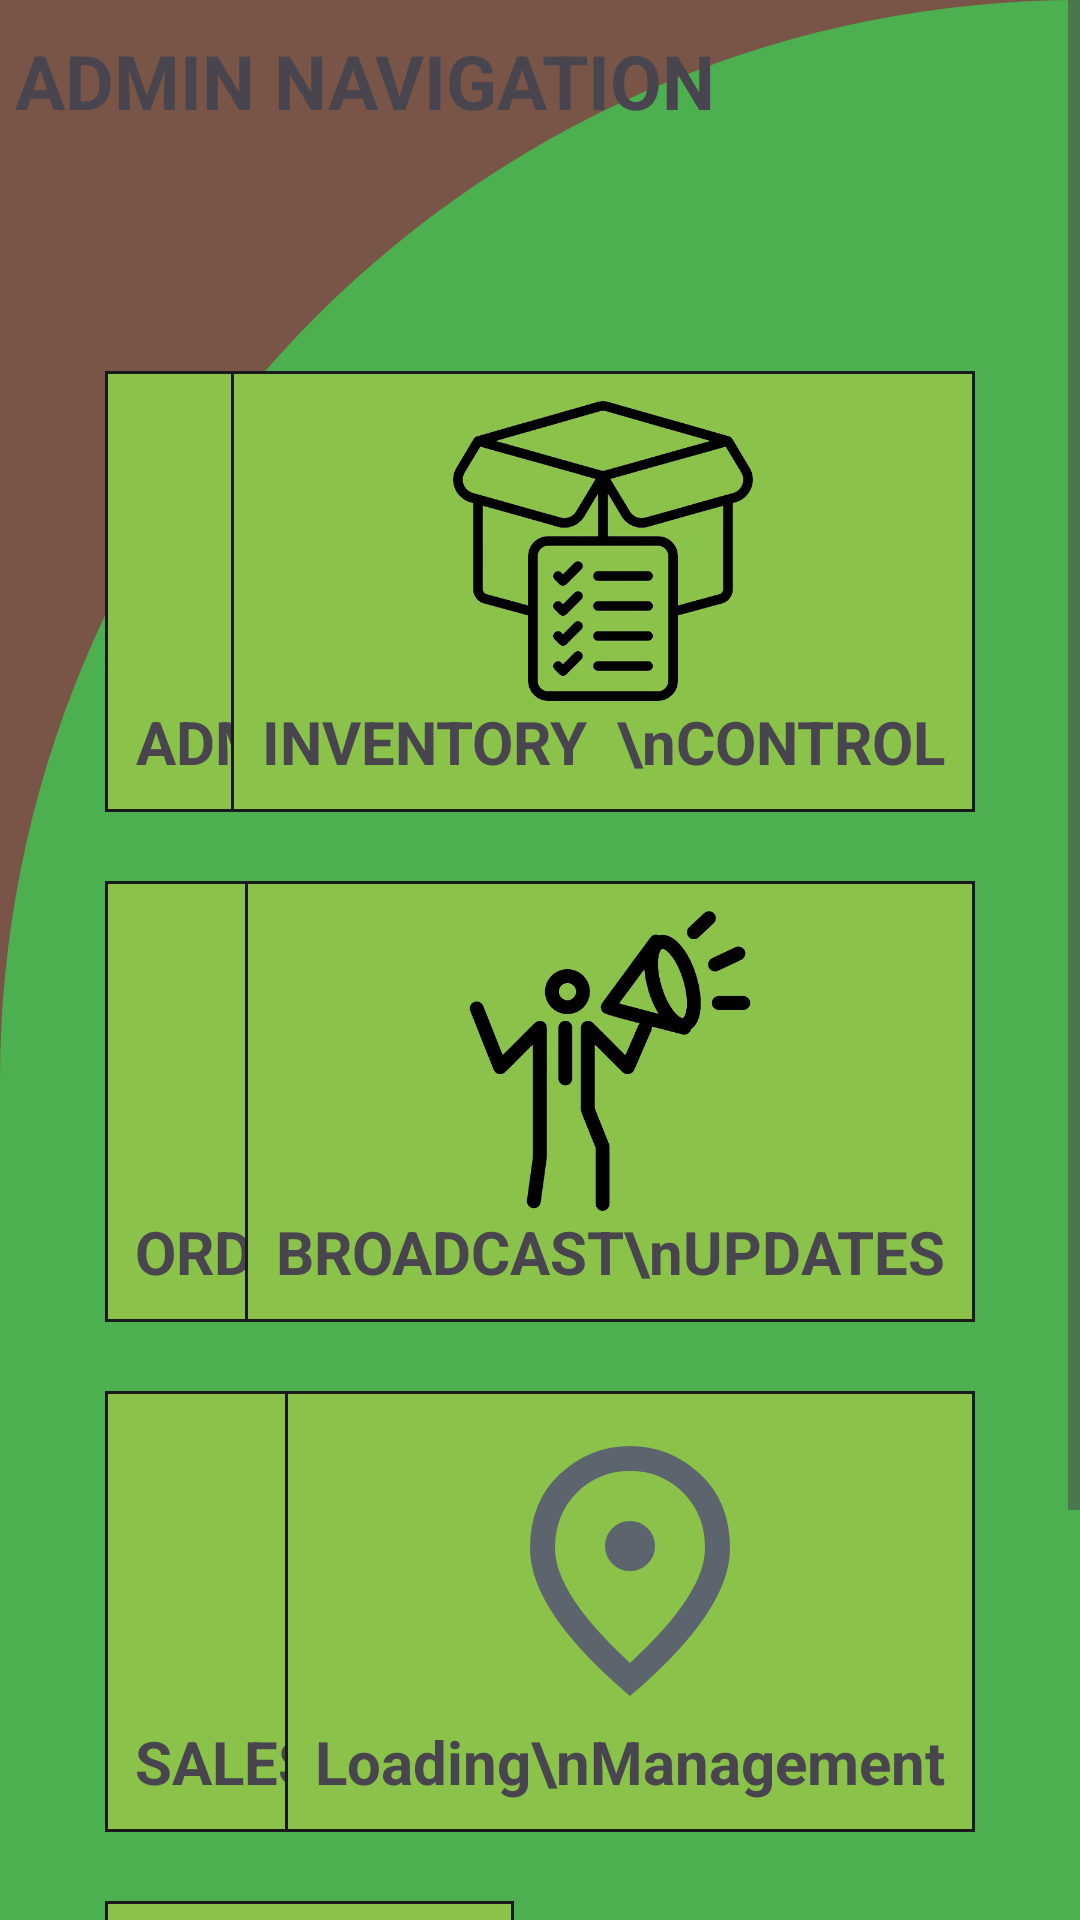

Locate icon controls on the screen. Image size 1080 × 1920, boxes as (left=x1, top=y1, right=x2, bottom=y2).
location: (left=530, top=1446, right=730, bottom=1696)
